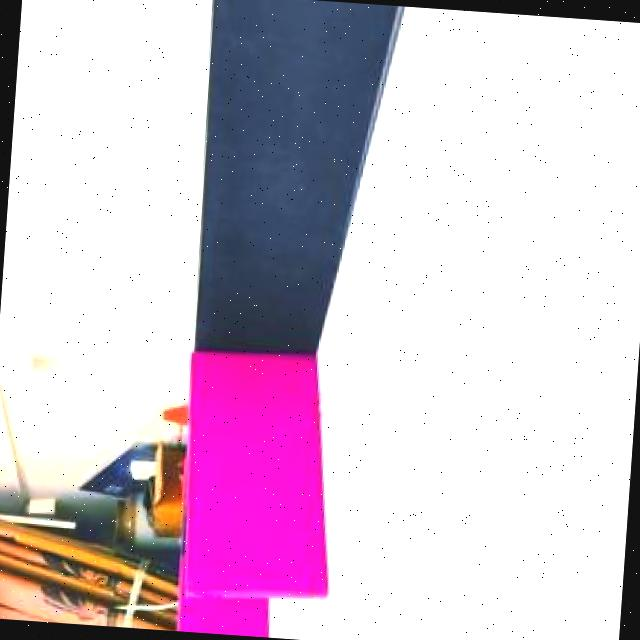xparking: (183, 348, 327, 590)
